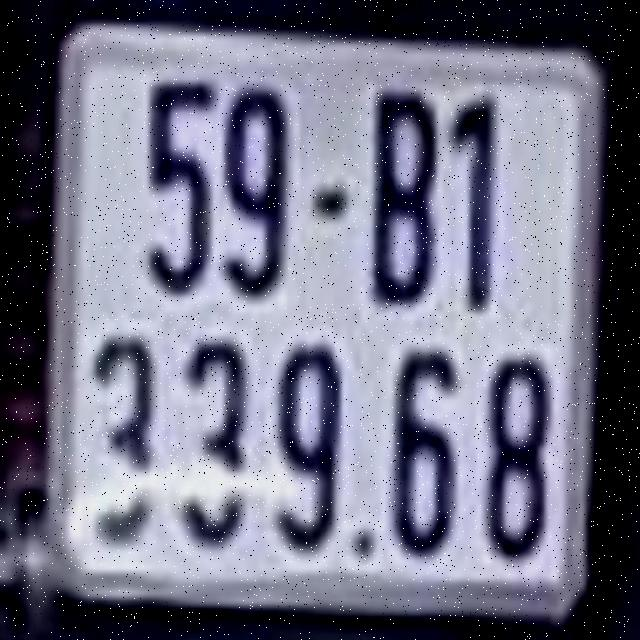1: (447, 86, 508, 314)
3: (179, 335, 248, 546), (89, 332, 156, 543)
5: (145, 74, 215, 296)
6: (392, 346, 459, 558)
8: (486, 354, 550, 559)
9: (221, 80, 289, 299), (274, 339, 341, 552)
B: (369, 86, 439, 306)
